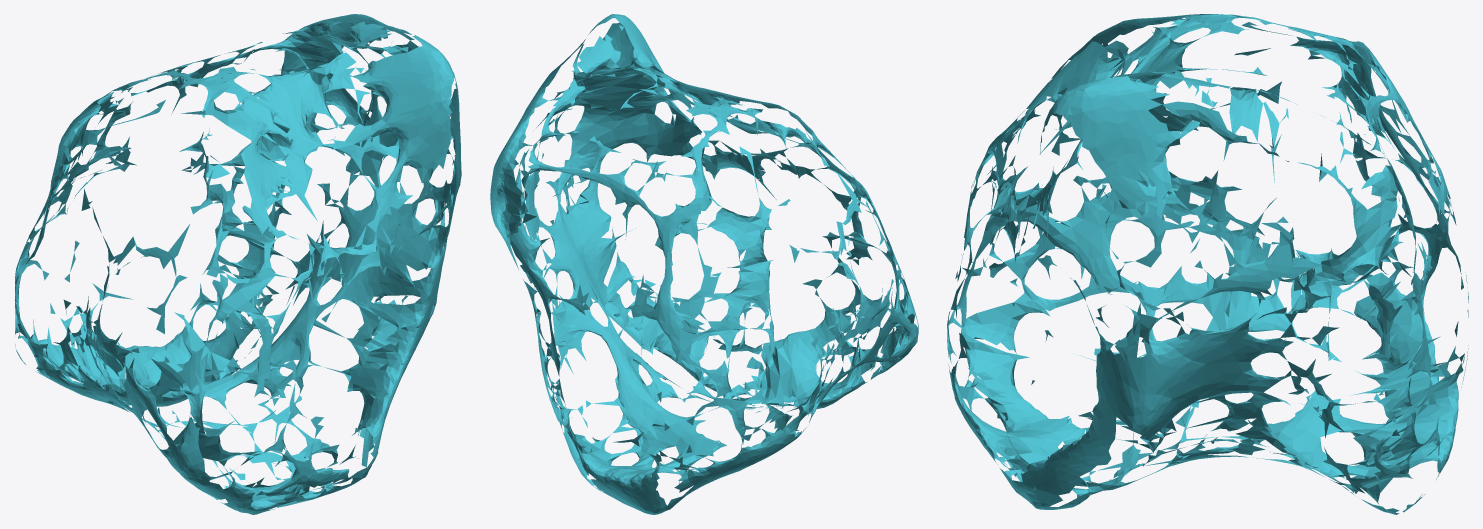
3 views of the same model, side by side, from view 1: azimuth 30°, elevation 25°; view 2: azimuth 150°, elevation 25°; view 3: azimuth 270°, elevation 25° (orthographic). The views are drawn at different scales.
Parts seen in each view (by area): view 1: Renderer Node; view 2: Renderer Node; view 3: Renderer Node.
Boxes of the visible parts, x1,y1,x2,y2 form: Renderer Node: (15,14,461,514); Renderer Node: (490,14,918,514); Renderer Node: (947,14,1468,514).
Size of the model in its own units: 0.5724 by 0.6507 by 0.6045.
1 material, 1 textured.
